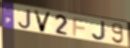2: (54, 14, 71, 38)
9: (111, 23, 125, 45)
F: (72, 17, 89, 38)
J: (90, 21, 108, 42), (17, 9, 32, 30)
V: (33, 9, 54, 33)
